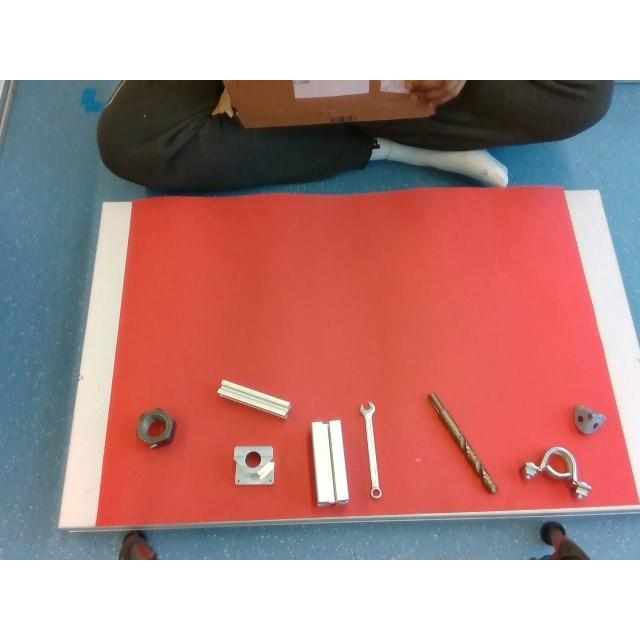Drill: (429, 392, 497, 492)
F20_20_G: (218, 380, 290, 418)
Housing: (522, 446, 590, 498)
M30: (138, 409, 174, 447)
S40_40_G: (312, 421, 348, 505)
